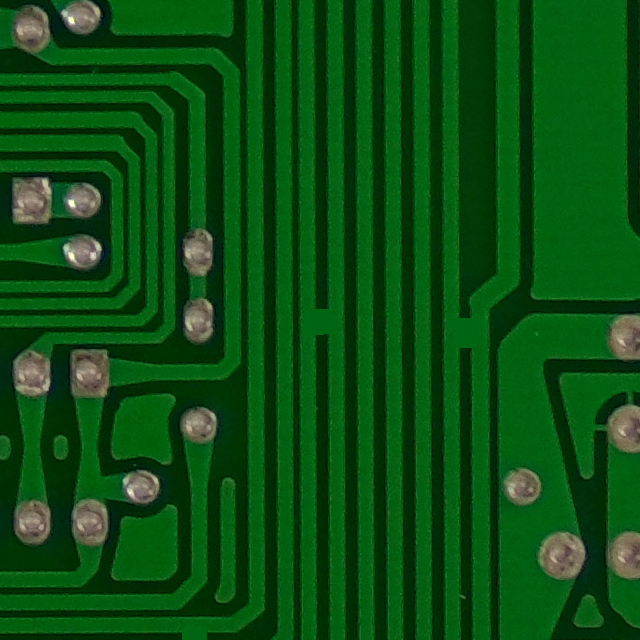short: (290, 290, 351, 351), (436, 307, 504, 361), (156, 610, 234, 640)
